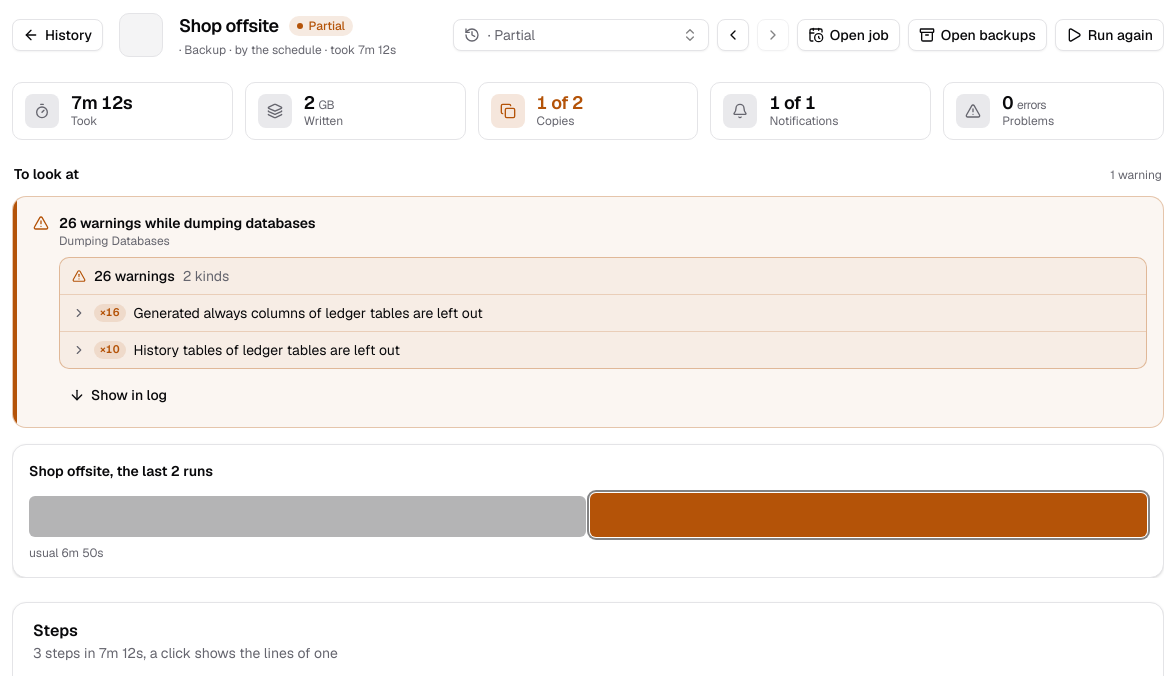
Test: the page of a run › tells warnings of many kinds as one problem that opens by kind
Expected: the text "26 warnings while dumping databases" is shown, [59, 214, 316, 232]
Expected: the text "×16" is shown, [94, 304, 126, 322]
Click the button "×16 Generated always columns of ledger tables are left out" at x=110, y=313, box [60, 295, 1146, 331]
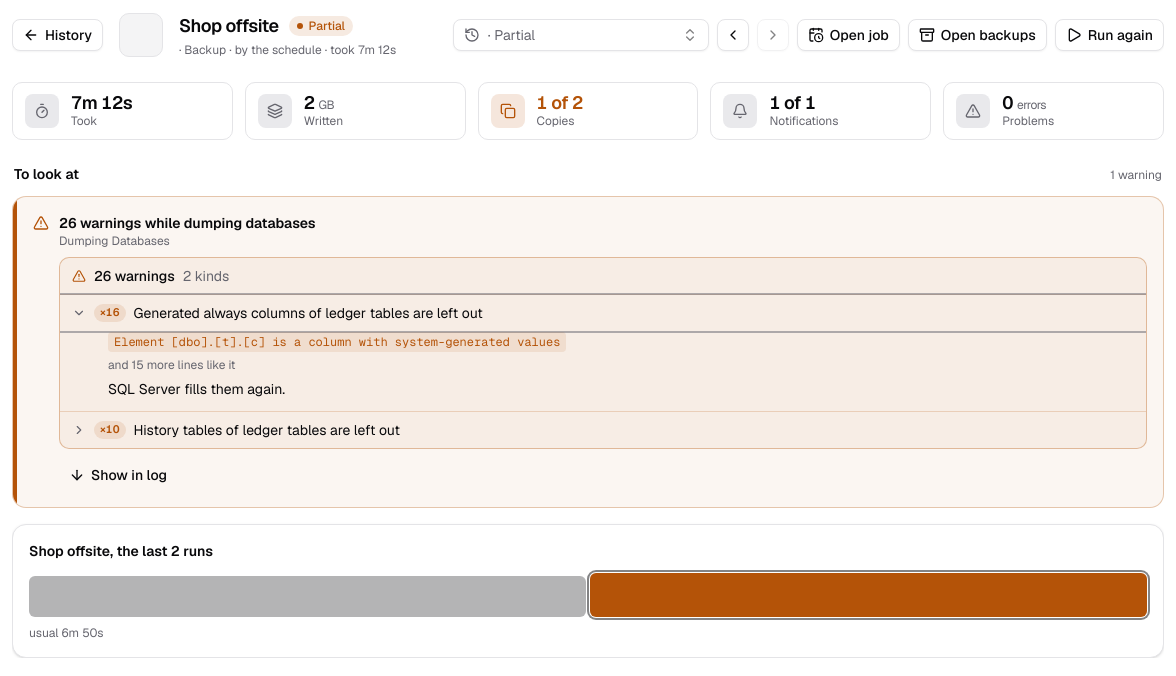
Expected: the text "SQL Server fills them again." is shown, [108, 380, 285, 398]
Expected: the text "and 15 more lines like it" is shown, [108, 357, 236, 373]
